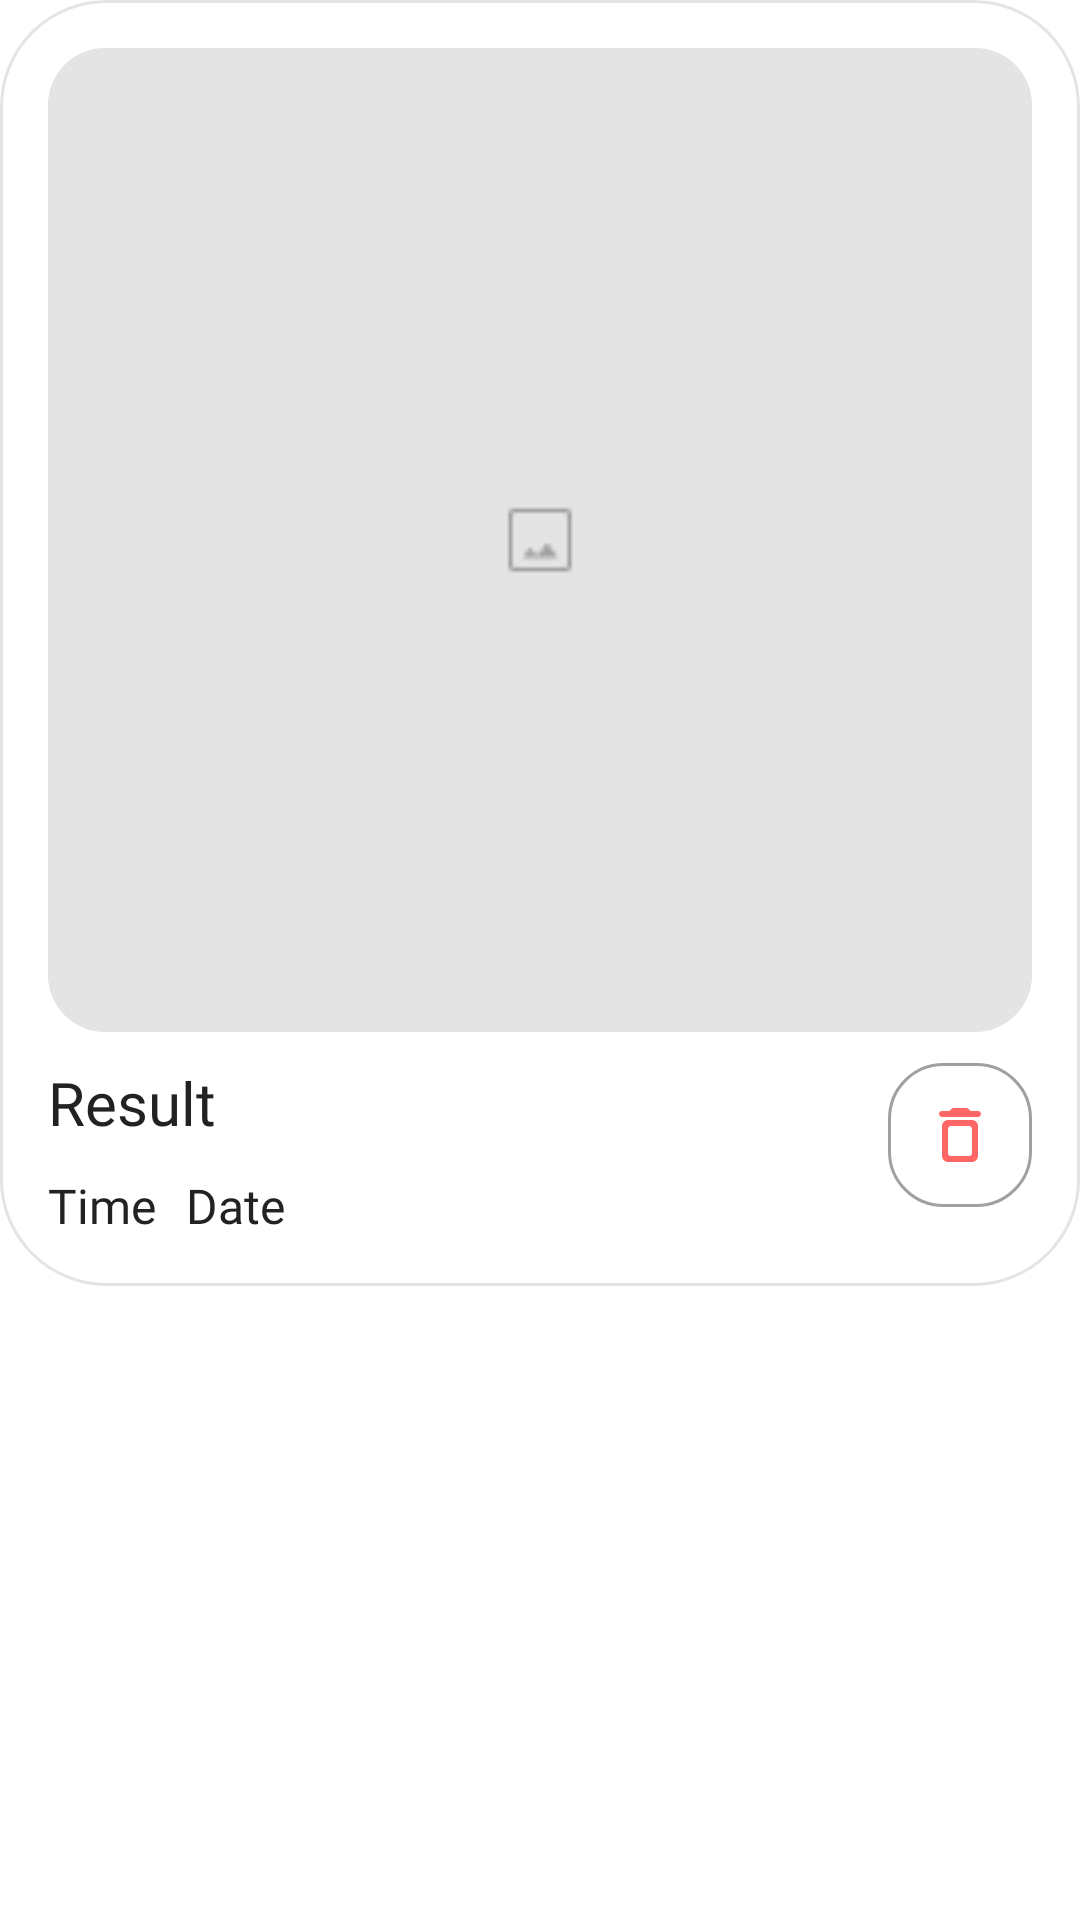

Locate icon controls on the screen. Image size 1080px×1920px, boxes as (x1, y1, x2, y2).
Delete Button: (888, 1063, 1032, 1207)
